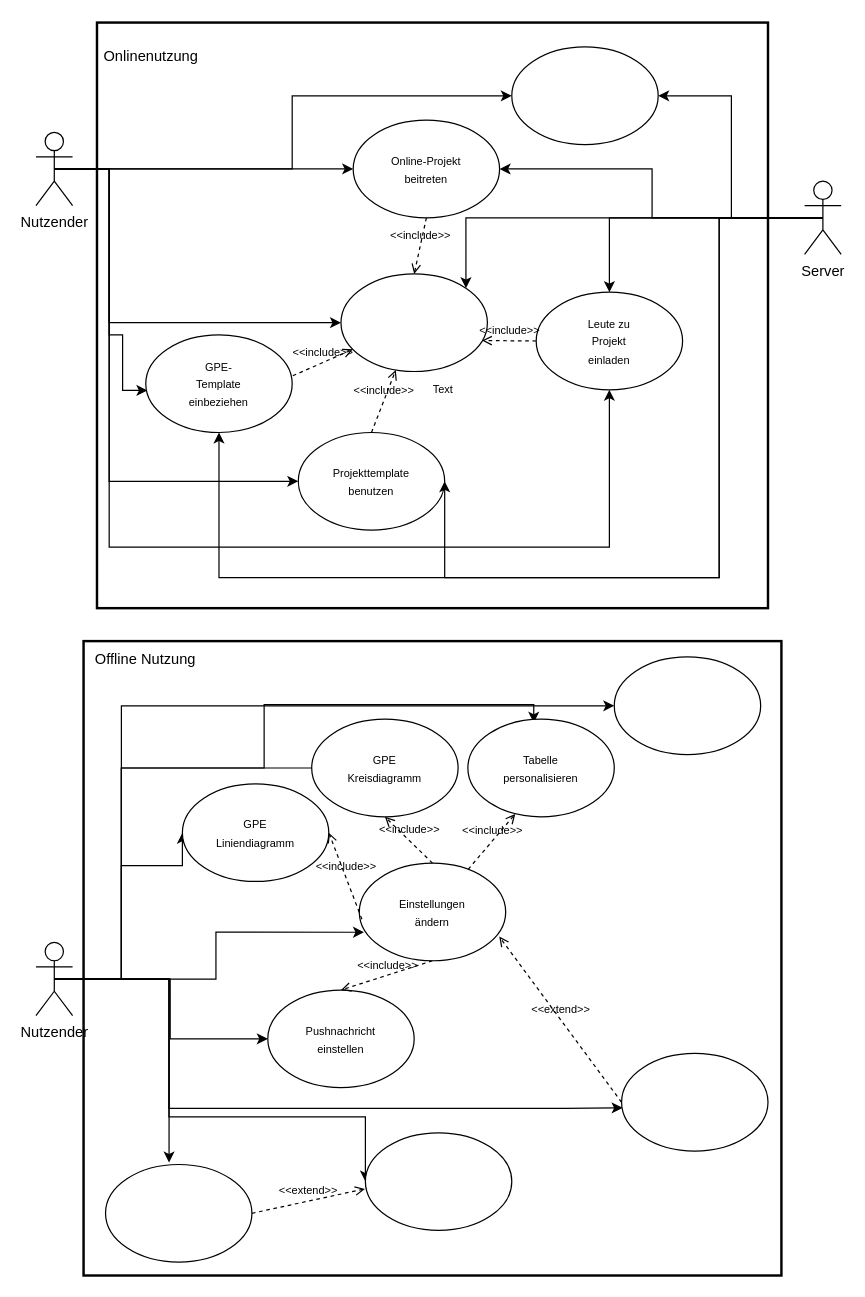
Some shapes in this 865 by 1297 pixel diagram are drawn without their labels. The shapes that lost their labels are listed below. From the top down, each one's centre as x and y in pixels, then its label:
At point 584,95: "Leute von Projekt entfernen".
At point 413,322: "Registrieren für die Servernutzung".
At point 687,705: "Graph aktualisieren".
At point 694,1101: "neues Projekt erstellen".
At point 438,1181: "Datum einfügen".
At point 178,1212: "über Pushnachricht Datum eintragen".
